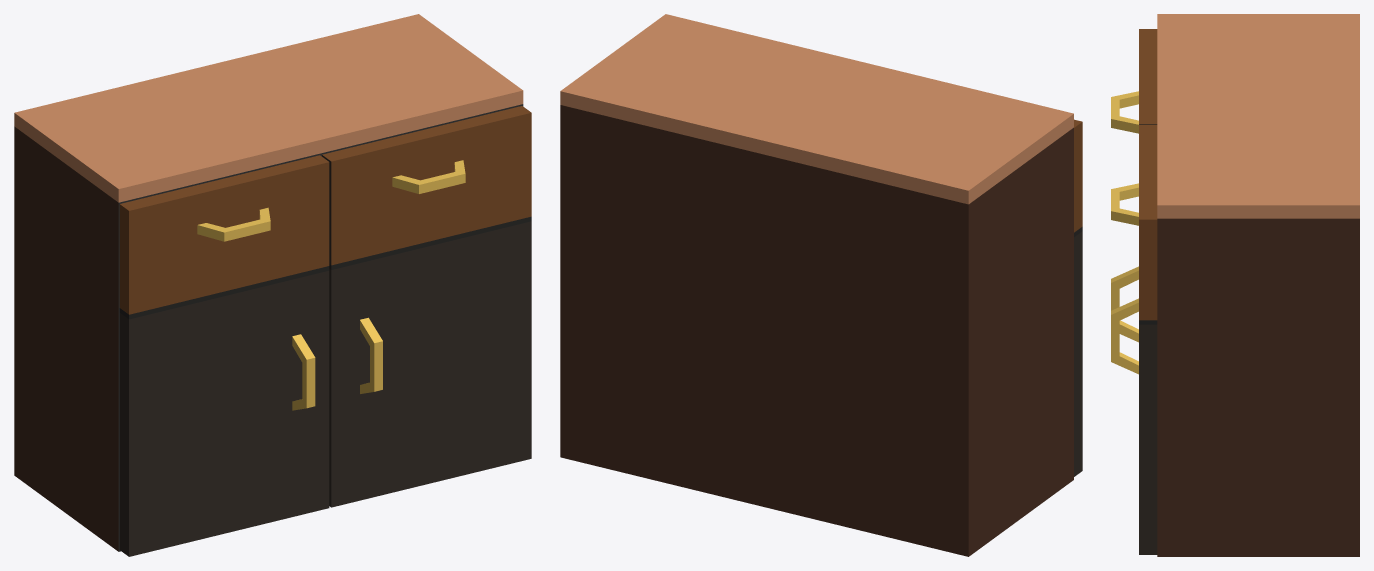
File: Kitchen_Cabinet_4B.fbx
3 views of the same model, side by side, from view 1: azimuth 30°, elevation 25°; view 2: azimuth 150°, elevation 25°; view 3: azimuth 270°, elevation 25° (orthographic). The views are drawn at different scales.
Visible parts, largest first — view 1: polySurface1778; view 2: polySurface1778; view 3: polySurface1778.
Boxes of the visible parts, <box> form: polySurface1778: <box>14,14,531,556</box>; polySurface1778: <box>560,14,1082,556</box>; polySurface1778: <box>1111,14,1359,556</box>.
Size of the model in its own units: 1.56 by 1.34 by 0.8565.
1 material, 1 textured.
